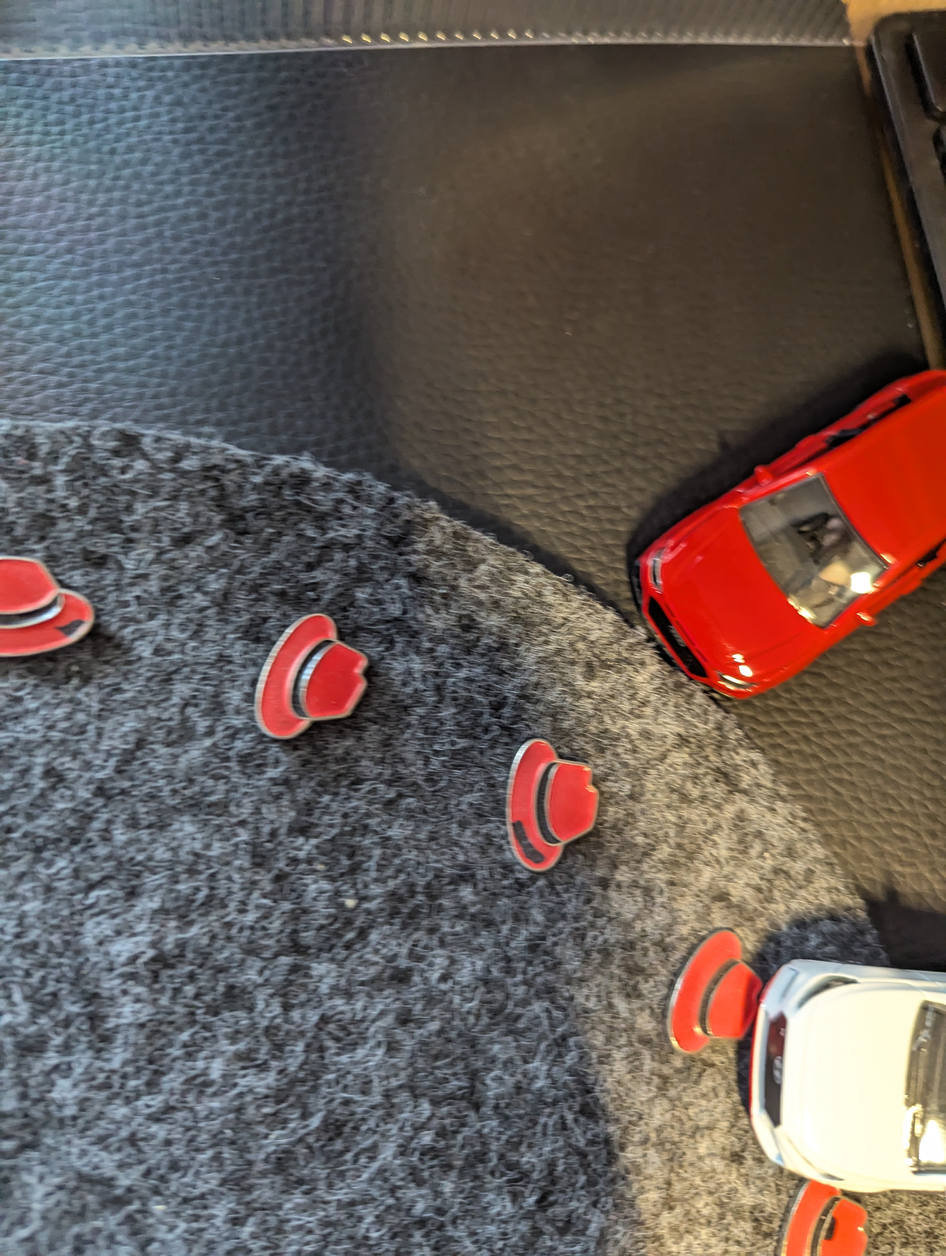Car: (624, 351, 946, 716), (711, 949, 946, 1200)
Red-Hat: (237, 584, 393, 774), (643, 901, 787, 1068), (486, 714, 610, 905), (0, 536, 126, 690), (773, 1147, 887, 1256)
Scratch: (494, 799, 558, 883), (44, 608, 102, 654), (814, 1197, 854, 1243)
